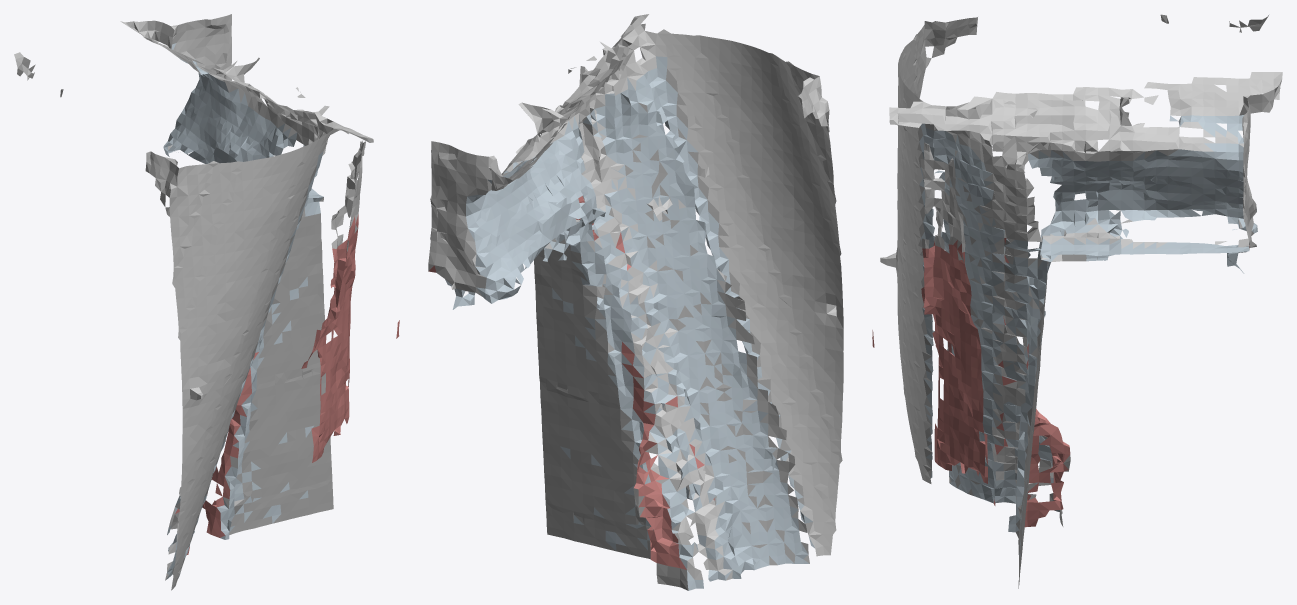
The model's file is R1-뜬면-2__lt_dynnow_ALS_s0__after.glb.
The picture shows the model from 3 angles, left to right: view 1: azimuth 30°, elevation 25°; view 2: azimuth 150°, elevation 25°; view 3: azimuth 270°, elevation 25°; orthographic projection. The views are drawn at different scales.
Bounding box in the file's own units: 18.2 × 35.31 × 27.98.
